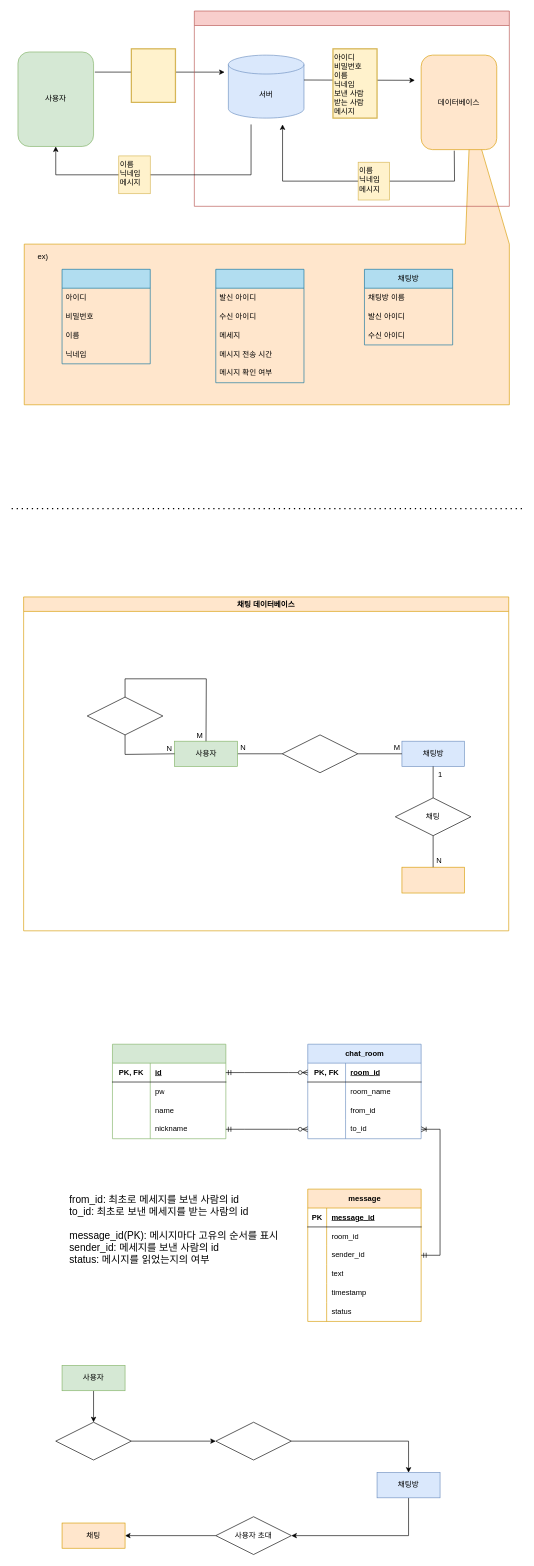
Image size: 534x1566. Some labels were removed from this diagram. The shapes that lost their labels are listed below. From the top down, each one's box as (x1, y1, x2, y2) in pixels, then its label:
(130, 48, 176, 103): 아이디 비밀번호 이름 닉네임 메시지
(61, 269, 150, 364): 사용자 정보
(215, 269, 304, 383): 메세지 정보
(87, 696, 163, 735): 초대
(282, 734, 358, 773): 개설
(401, 867, 464, 893): 메시지
(112, 1044, 226, 1139): chat_user
(55, 1422, 131, 1460): 메세지 전송
(215, 1422, 291, 1460): 채팅방 생성
